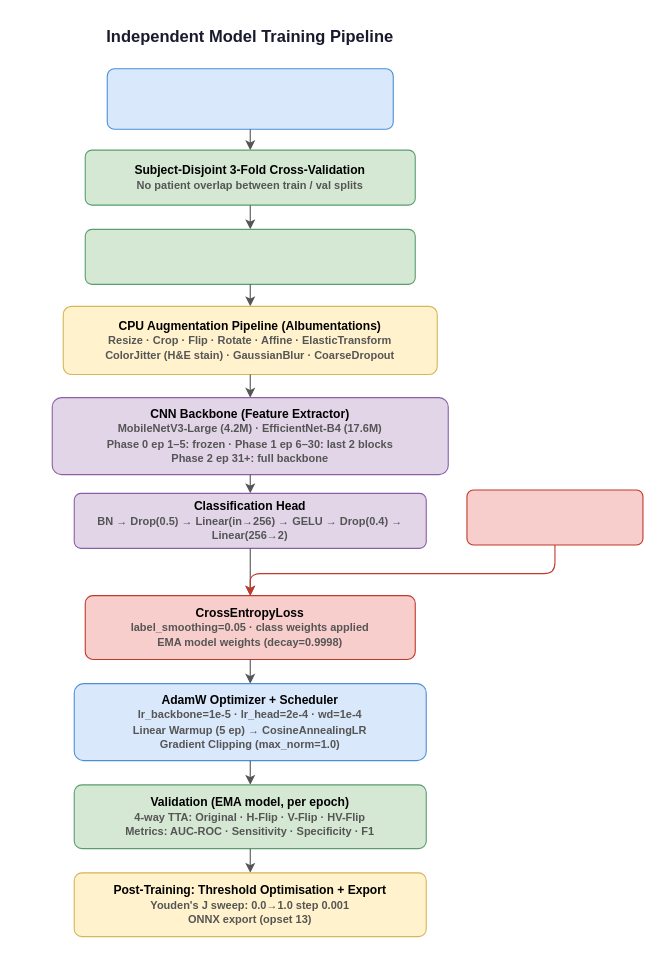
The diagram is 662 pixels wide and 956 high, and some of its shapes have lost their labels. Each missing label, with the box of its shape:
C-NMC 2019 Dataset ALL: 7,272 · HEM: 3,389: (106, 68, 393, 129)
Class Imbalance Handling WeightedRandomSampler · Class-weighted Loss: (84, 228, 415, 284)
Ground Truth Labels ALL=0 · HEM=1: (466, 489, 643, 545)
